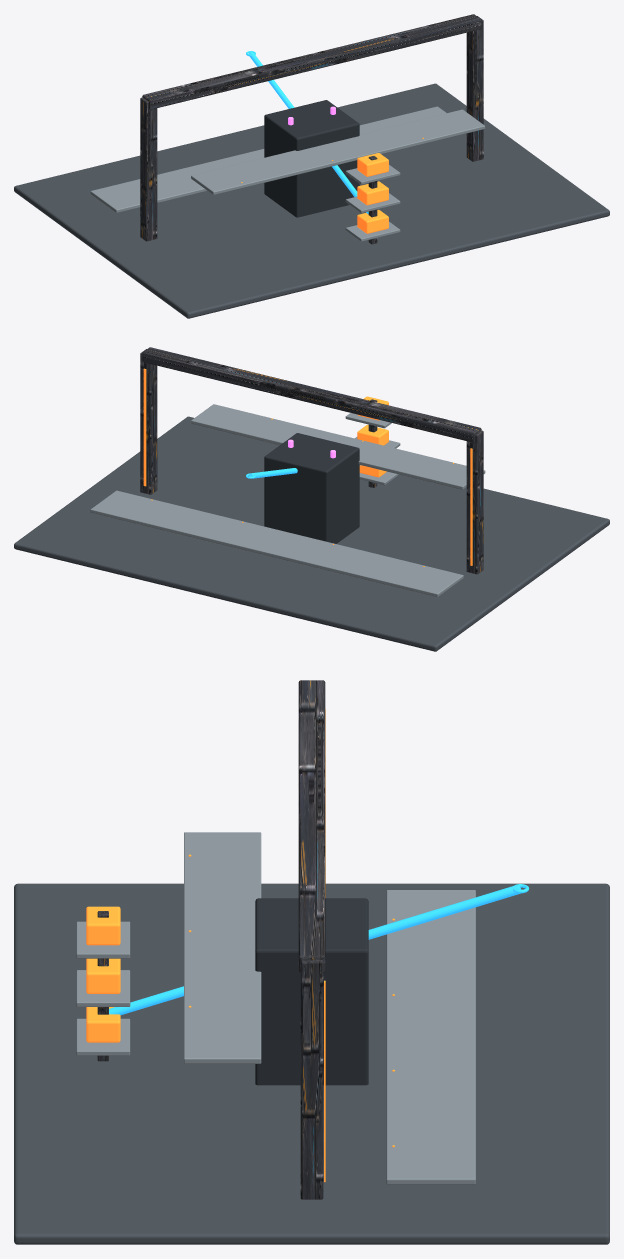
File: resonance_processing_zone.glb
The picture shows the model from 3 angles, top to bottom: view 1: azimuth 30°, elevation 25°; view 2: azimuth 150°, elevation 25°; view 3: azimuth 270°, elevation 25°; orthographic projection. The views are drawn at different scales.
Parts seen in each view (by area): view 1: Foundation/plate, Deck/4.5, Lift/shaft, Gantry/header, Deck/1.2, Gantry/column_-10.8, Gantry/column_10.8, CargoRack/0/crate_4.8, CargoRack/0/crate_3.0, CargoRack/0/crate_1.2, Pipe/0, CargoRack/0/shelf_3.0 (+2 smaller); view 2: Foundation/plate, Deck/1.2, Lift/shaft, Gantry/header, Deck/4.5, Gantry/column_-10.8, Gantry/column_10.8, Gantry/column_light_10.8, CargoRack/0/crate_3.0; view 3: Foundation/plate, Deck/1.2, Deck/4.5, Lift/shaft, Gantry/header, Gantry/column_10.8, Pipe/0, CargoRack/0/crate_4.8, CargoRack/0/shelf_1.2, CargoRack/0/shelf_4.8, CargoRack/0/shelf_3.0, CargoRack/0/crate_3.0 (+1 smaller).
Part boxes in pixels (bbox=[...]): Foundation/plate: bbox=[14, 83, 609, 318]; Deck/4.5: bbox=[191, 109, 485, 194]; Lift/shaft: bbox=[264, 100, 359, 217]; Gantry/header: bbox=[142, 14, 481, 109]; Deck/1.2: bbox=[90, 106, 446, 212]; Gantry/column_-10.8: bbox=[140, 97, 157, 241]; Gantry/column_10.8: bbox=[466, 16, 483, 161]; CargoRack/0/crate_4.8: bbox=[357, 153, 388, 176]; CargoRack/0/crate_3.0: bbox=[357, 181, 388, 205]; CargoRack/0/crate_1.2: bbox=[357, 209, 388, 233]; Pipe/0: bbox=[249, 52, 368, 214]; CargoRack/0/shelf_3.0: bbox=[345, 193, 400, 213]; Foundation/plate: bbox=[14, 416, 609, 651]; Deck/1.2: bbox=[90, 490, 463, 597]; Lift/shaft: bbox=[264, 433, 359, 543]; Gantry/header: bbox=[142, 347, 481, 442]; Deck/4.5: bbox=[191, 404, 485, 489]; Gantry/column_-10.8: bbox=[466, 430, 483, 574]; Gantry/column_10.8: bbox=[140, 349, 157, 494]; Gantry/column_light_10.8: bbox=[143, 368, 146, 486]; CargoRack/0/crate_3.0: bbox=[357, 425, 388, 445]; Foundation/plate: bbox=[14, 883, 609, 1244]; Deck/1.2: bbox=[386, 890, 475, 1184]; Deck/4.5: bbox=[184, 832, 261, 1063]; Lift/shaft: bbox=[255, 898, 368, 1085]; Gantry/header: bbox=[298, 680, 325, 972]; Gantry/column_10.8: bbox=[300, 959, 323, 1199]; Pipe/0: bbox=[109, 884, 521, 1015]; CargoRack/0/crate_4.8: bbox=[86, 906, 120, 945]; CargoRack/0/shelf_1.2: bbox=[76, 1018, 130, 1055]; CargoRack/0/shelf_4.8: bbox=[76, 921, 130, 958]; CargoRack/0/shelf_3.0: bbox=[76, 970, 130, 1006]; CargoRack/0/crate_3.0: bbox=[86, 958, 120, 993].
Bounding box in the file's own units: 28 × 9.32 × 20.
7 materials, 1 textured.
